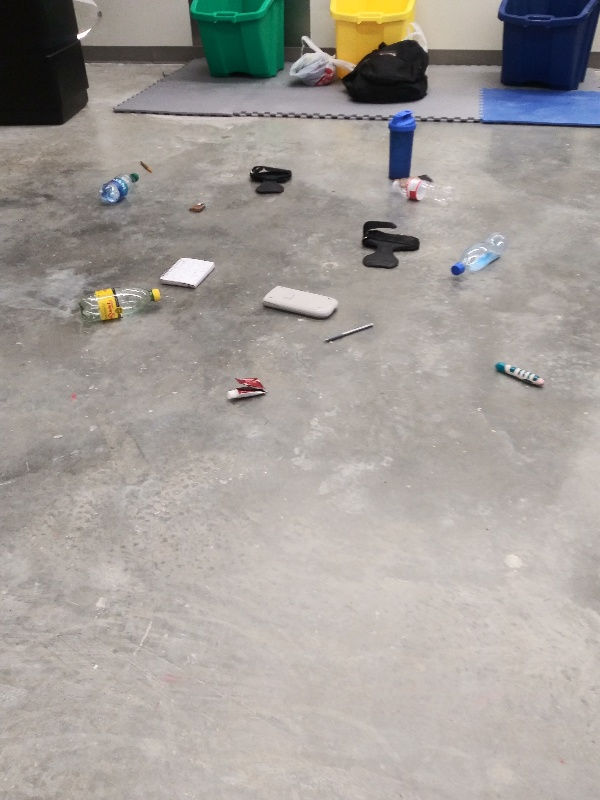bottle: (75, 282, 165, 326), (448, 228, 511, 282), (387, 176, 460, 210), (96, 171, 144, 207)
